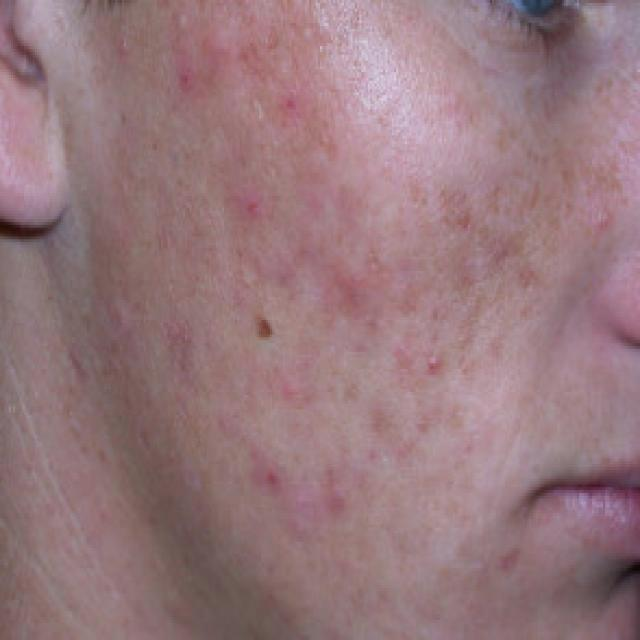Acne: (97, 0, 518, 577)
